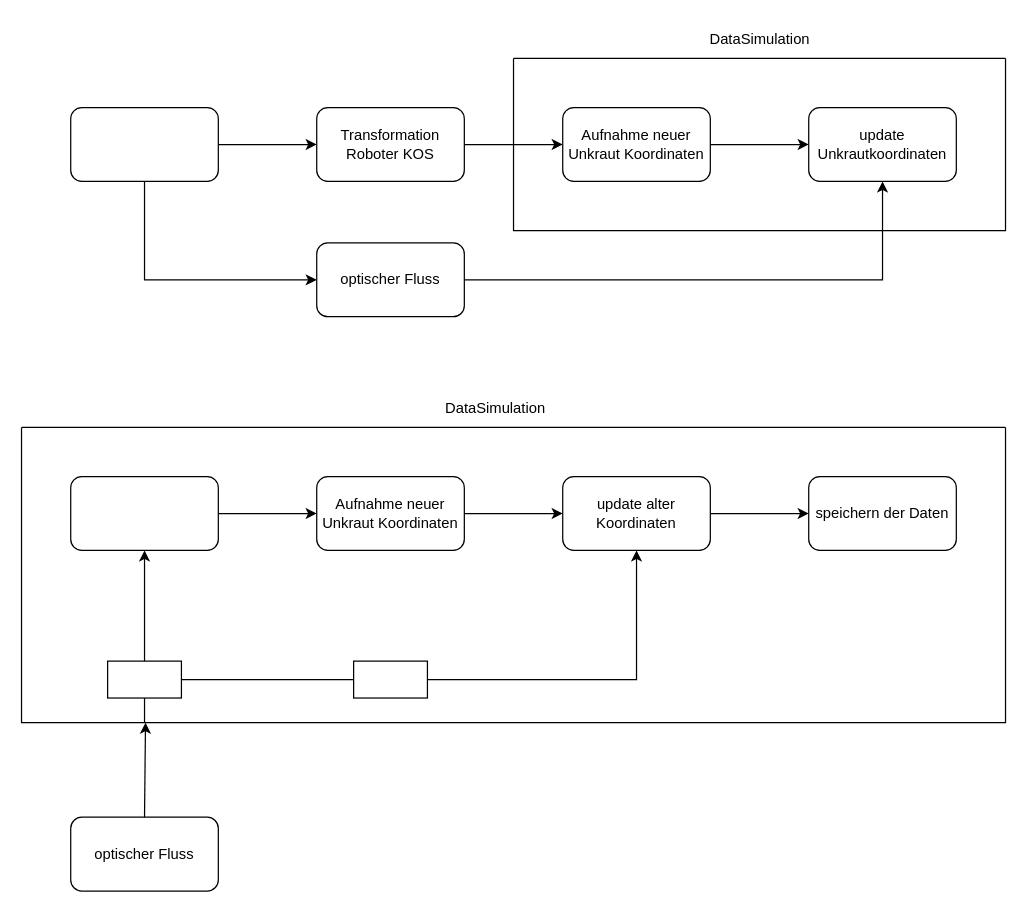
Some shapes in this 1027 by 913 pixel diagram are drawn without their labels. Each missing label, with the centre of its shape:
Konstant: the point at 143,679
PositionsDaten Yolo: the point at 143,143
Unkrautkoordinaten Generierung: the point at 143,512
Varianz: the point at 389,679
